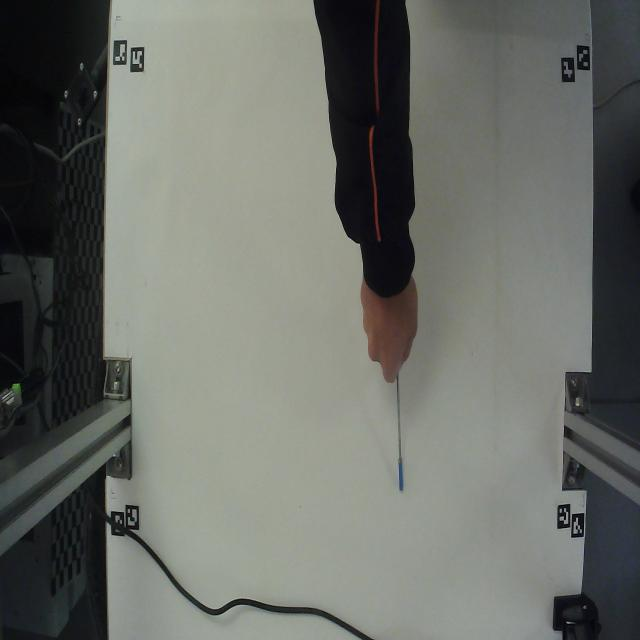Pres: (386, 368, 419, 516)
